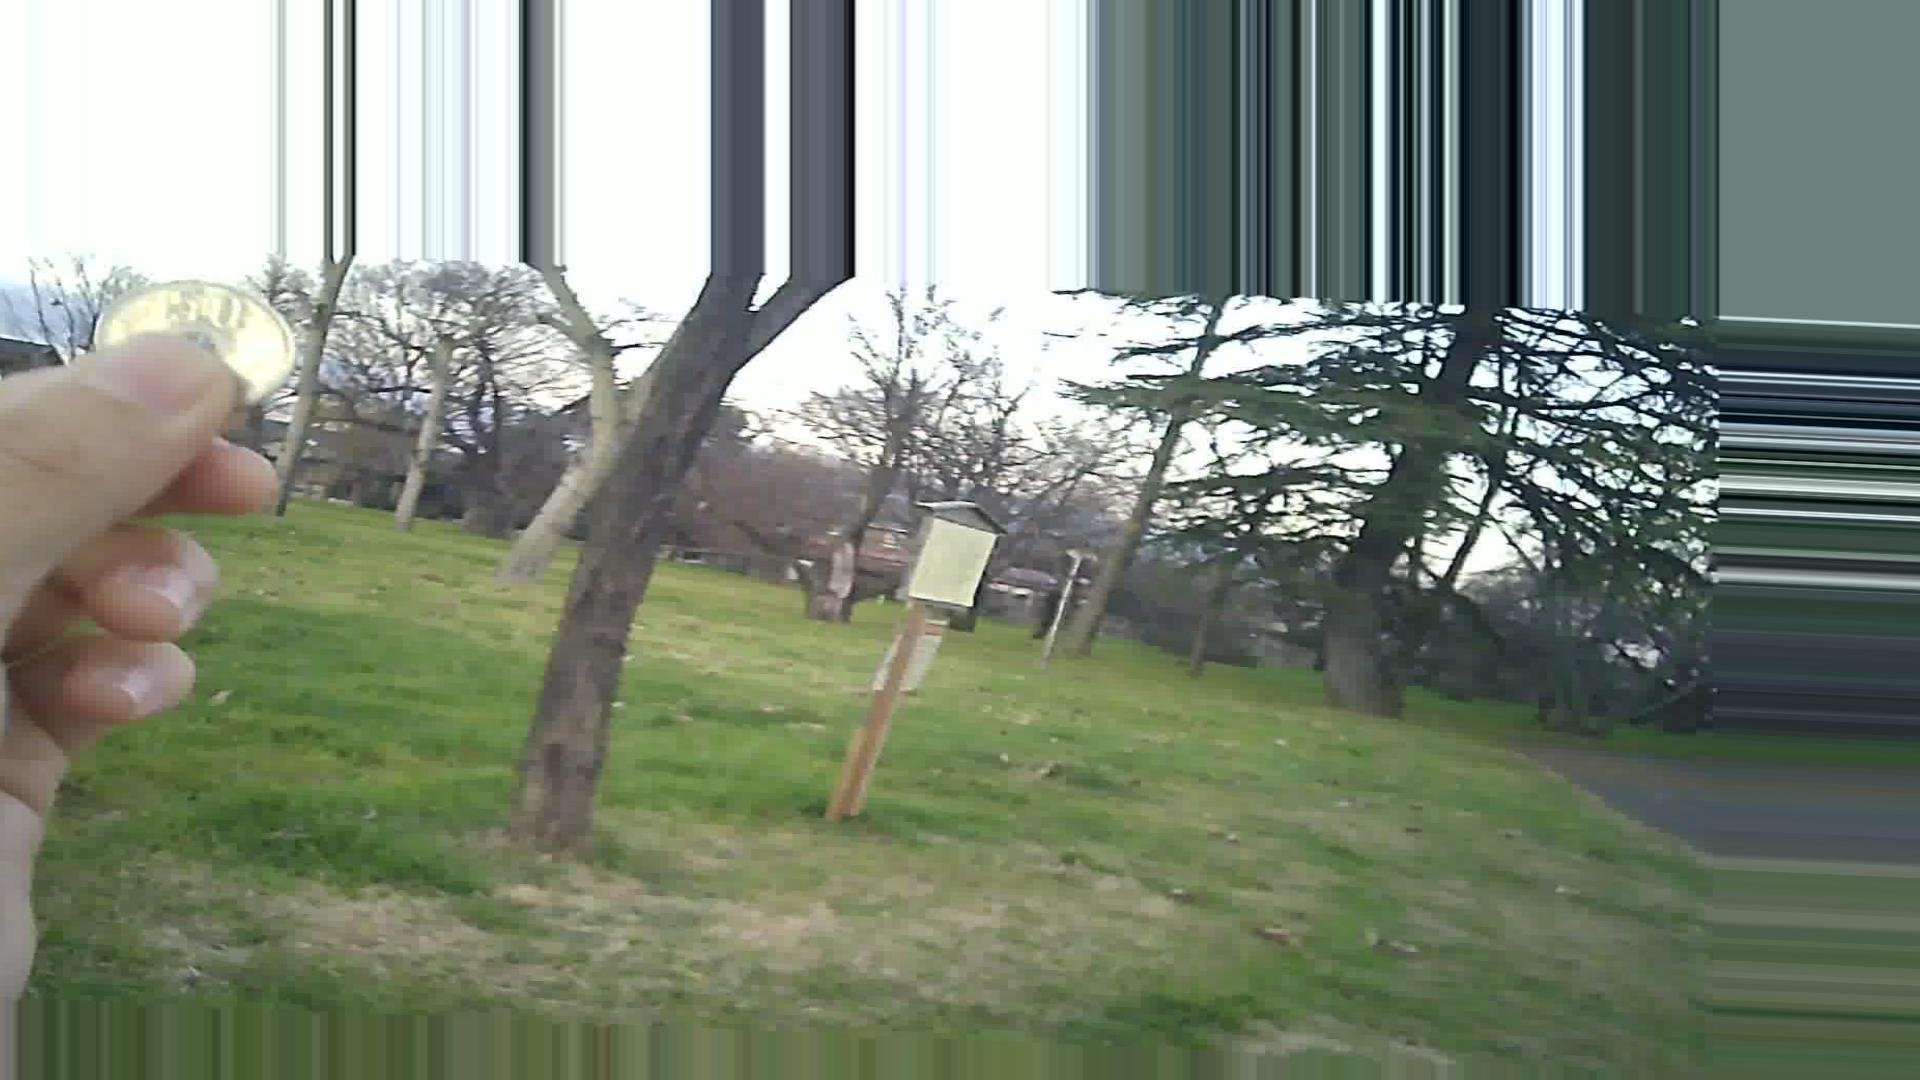50 Yen: (84, 276, 297, 417)
